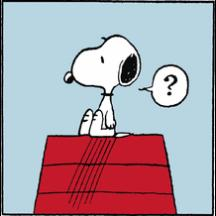snoopy: (64, 34, 142, 138)
